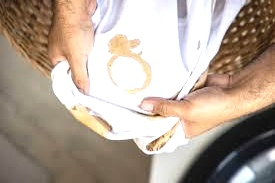coffee: (107, 34, 144, 60), (142, 59, 153, 90), (107, 59, 118, 89)
